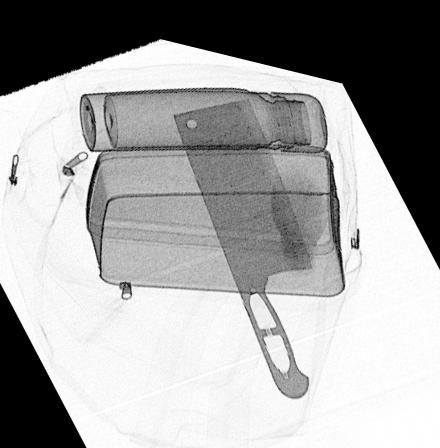Knife: (169, 82, 312, 387)
